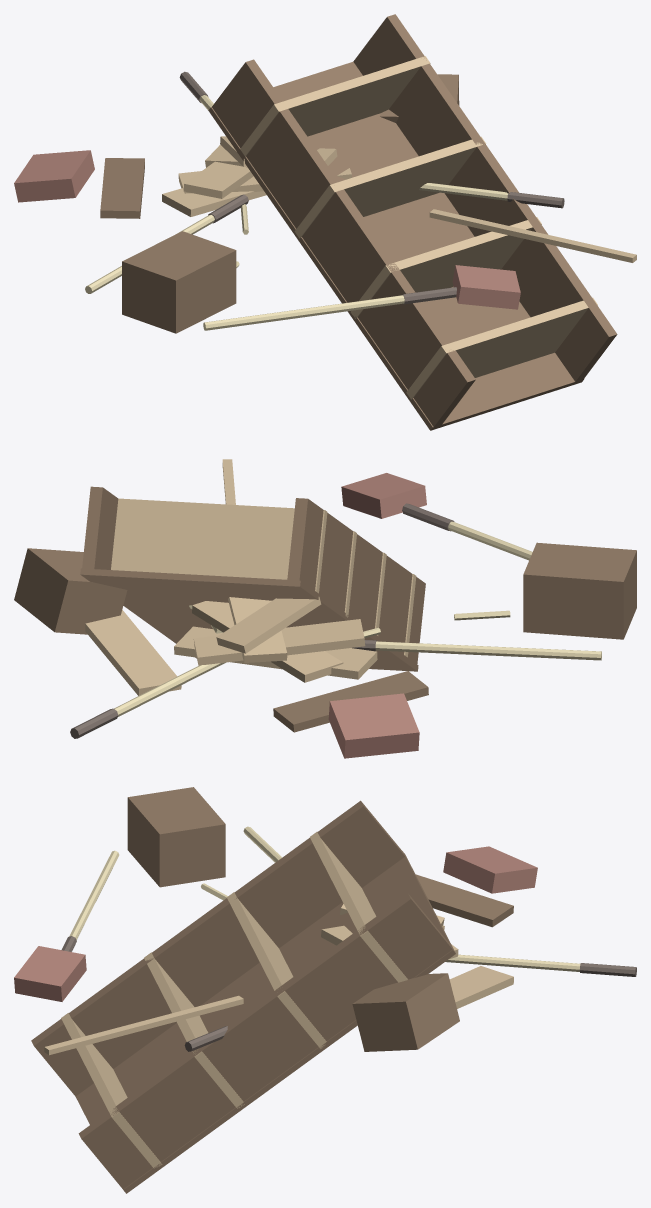
The model's file is Prop_CollapsedShelf.fbx.
3 renders of one model, top to bottom at view 1: azimuth 30°, elevation 25°; view 2: azimuth 150°, elevation 25°; view 3: azimuth 270°, elevation 25°, orthographic. The views are drawn at different scales.
Visible parts, largest first — view 1: Prop_CollapsedShelf; view 2: Prop_CollapsedShelf; view 3: Prop_CollapsedShelf.
Part boxes in pixels (x1=…): Prop_CollapsedShelf: x1=14, y1=14, x2=636, y2=430; Prop_CollapsedShelf: x1=14, y1=459, x2=636, y2=758; Prop_CollapsedShelf: x1=14, y1=787, x2=636, y2=1193.
Bounding box in the file's own units: 225 × 135 × 266.
